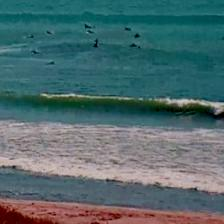surfer: (92, 38, 100, 48), (83, 24, 95, 30), (30, 50, 39, 55), (48, 61, 56, 66), (44, 31, 52, 36), (86, 30, 96, 34), (129, 43, 137, 48), (123, 27, 131, 32), (28, 35, 36, 39), (134, 33, 140, 38), (137, 45, 142, 50), (221, 35, 224, 42)
